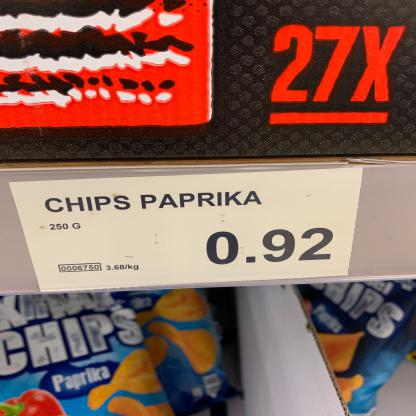prtg: (9, 168, 364, 294)
